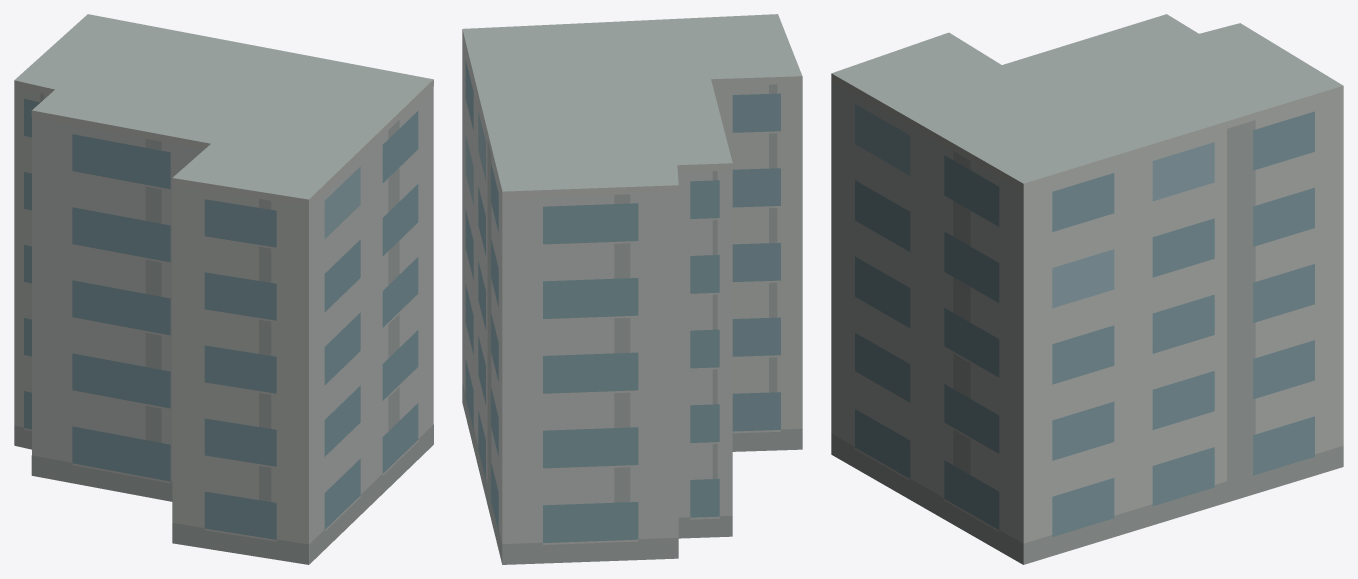
Rendered from survey-upis-32526480.glb.
The picture shows the model from 3 angles, left to right: view 1: azimuth 30°, elevation 25°; view 2: azimuth 150°, elevation 25°; view 3: azimuth 270°, elevation 25°; orthographic projection. The views are drawn at different scales.
Parts seen in each view (by area): view 1: survey-upis-32526480.tmp; view 2: survey-upis-32526480.tmp; view 3: survey-upis-32526480.tmp.
Part boxes in pixels (x1=…): survey-upis-32526480.tmp: x1=14, y1=14, x2=433, y2=564; survey-upis-32526480.tmp: x1=462, y1=14, x2=802, y2=564; survey-upis-32526480.tmp: x1=831, y1=14, x2=1343, y2=564.
Bounding box in the file's own units: 11.94 × 12.5 × 15.23.
